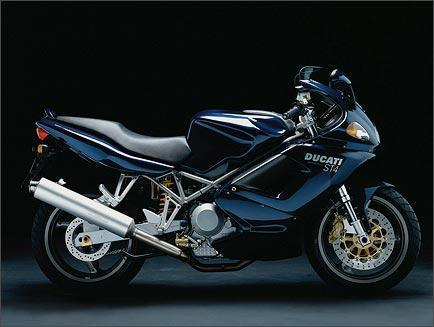motorcycle: (11, 56, 434, 301)
